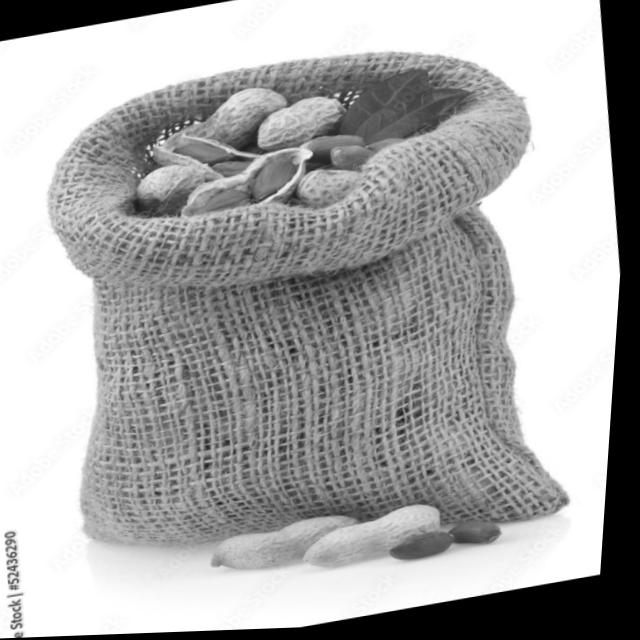sack: (23, 19, 602, 601)
